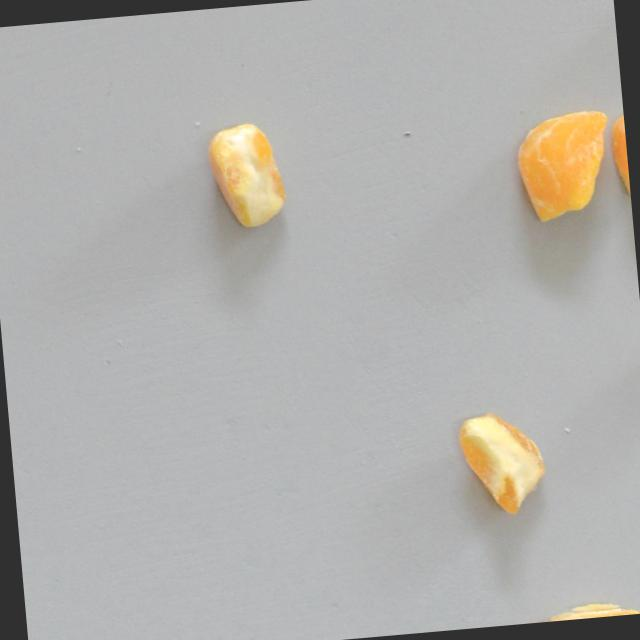pelicula: (513, 108, 614, 227), (455, 410, 548, 521), (204, 119, 289, 234), (606, 109, 632, 211), (529, 600, 640, 623)
